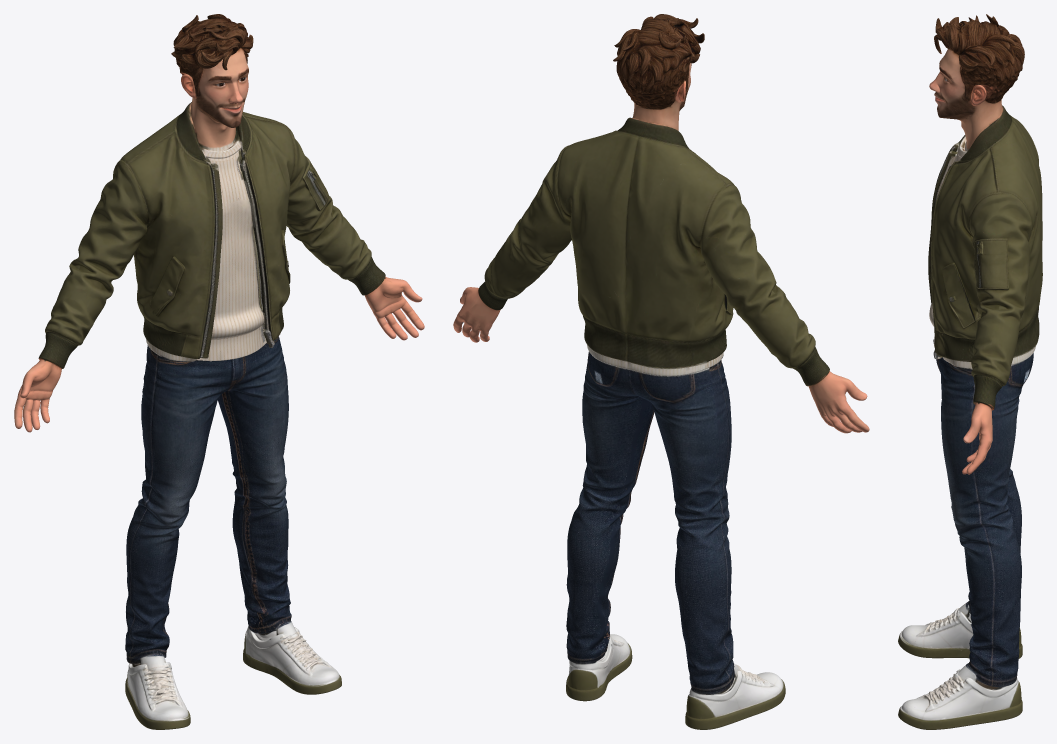
Rendered from Father.glb.
3 renders of one model, left to right at view 1: azimuth 30°, elevation 25°; view 2: azimuth 150°, elevation 25°; view 3: azimuth 270°, elevation 25°, orthographic. The views are drawn at different scales.
Parts seen in each view (by area): view 1: man; view 2: man; view 3: man.
Boxes of the visible parts, x1=… form: man: x1=14, y1=14, x2=424, y2=729; man: x1=453, y1=14, x2=869, y2=729; man: x1=898, y1=14, x2=1042, y2=729.
Size of the model in its own units: 1.15 by 1.8 by 0.3561.
Materials: 1 (1 with a texture image).
